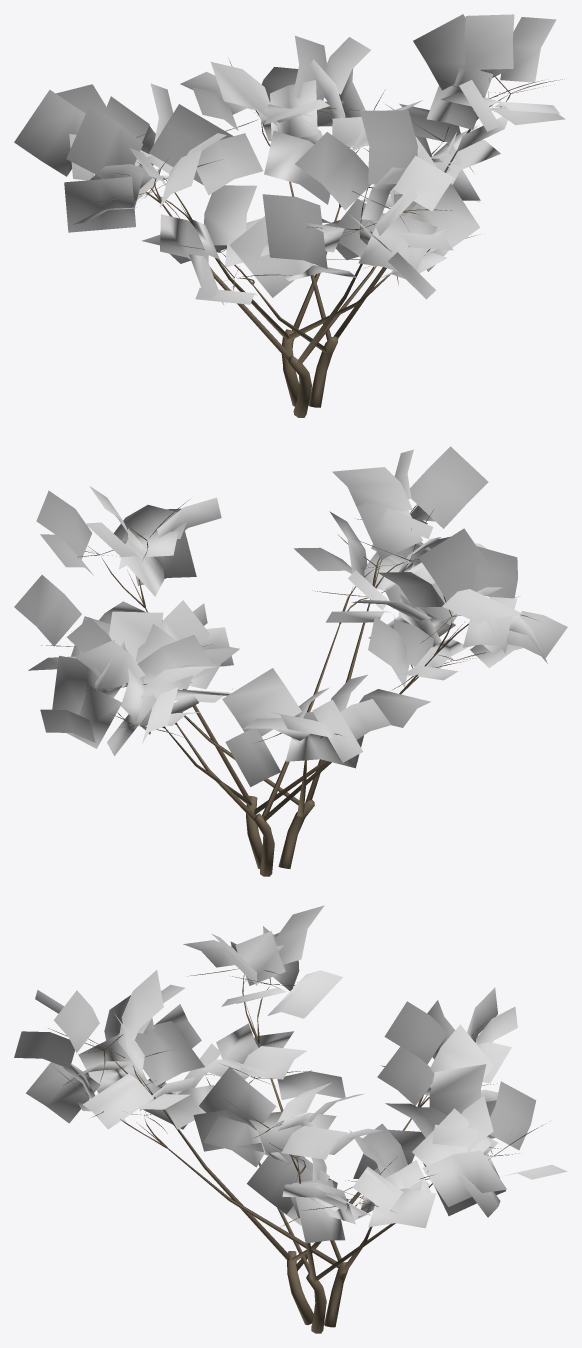
The model's file is V7_Genevrier_0_Niveau2.fbx.
3 views of the same model, one above another, from view 1: azimuth 30°, elevation 25°; view 2: azimuth 150°, elevation 25°; view 3: azimuth 270°, elevation 25° (orthographic). The views are drawn at different scales.
Parts seen in each view (by area): view 1: V7_Genevrier_0_Detail2; view 2: V7_Genevrier_0_Detail2; view 3: V7_Genevrier_0_Detail2.
Part boxes in pixels (<box>): V7_Genevrier_0_Detail2: <box>14,14,565,417</box>; V7_Genevrier_0_Detail2: <box>14,446,567,876</box>; V7_Genevrier_0_Detail2: <box>14,905,567,1333</box>.
Size of the model in its own units: 302 by 208 by 303.
